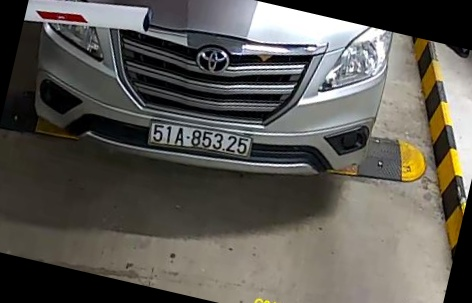plate: (145, 112, 270, 166)
